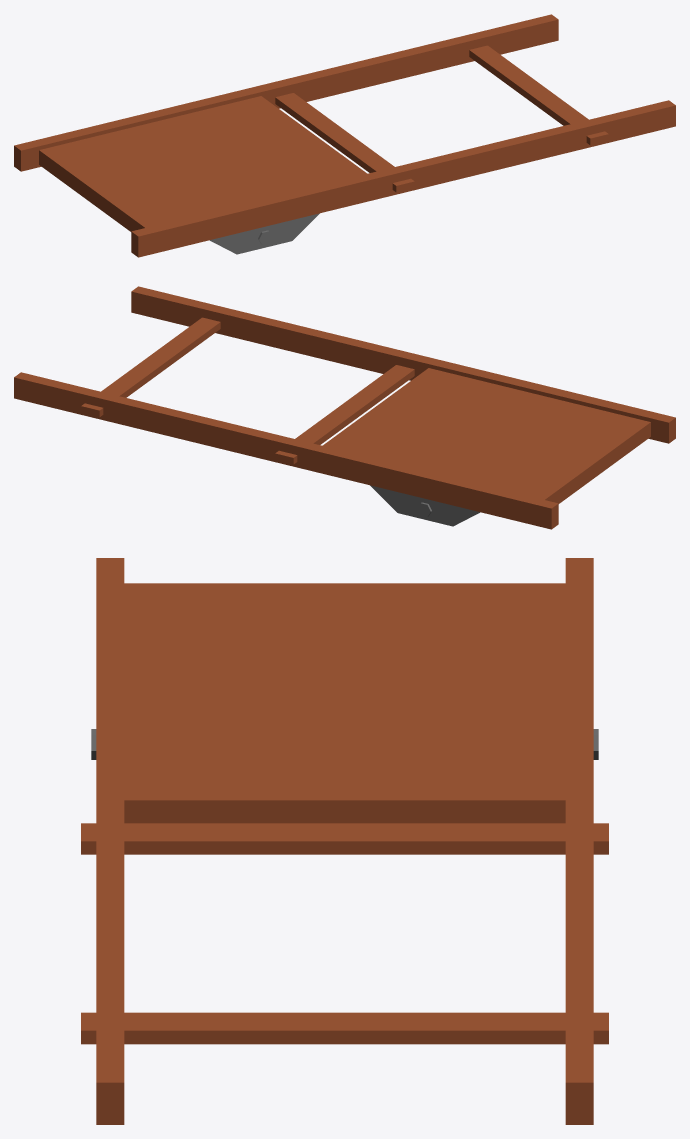
The model's file is Asian_Prop_Vehicle_Cart_01.FBX.
3 renders of one model, top to bottom at view 1: azimuth 30°, elevation 25°; view 2: azimuth 150°, elevation 25°; view 3: azimuth 270°, elevation 25°, orthographic. The views are drawn at different scales.
Parts seen in each view (by area): view 1: Asian_Prop_Vehicle_Cart_01; view 2: Asian_Prop_Vehicle_Cart_01; view 3: Asian_Prop_Vehicle_Cart_01.
Part boxes in pixels (box(x1,y1,x2,y2)): Asian_Prop_Vehicle_Cart_01: box(14, 14, 675, 257); Asian_Prop_Vehicle_Cart_01: box(14, 286, 675, 529); Asian_Prop_Vehicle_Cart_01: box(81, 558, 608, 1124).
Size of the model in its own units: 4843 by 362 by 2059.
